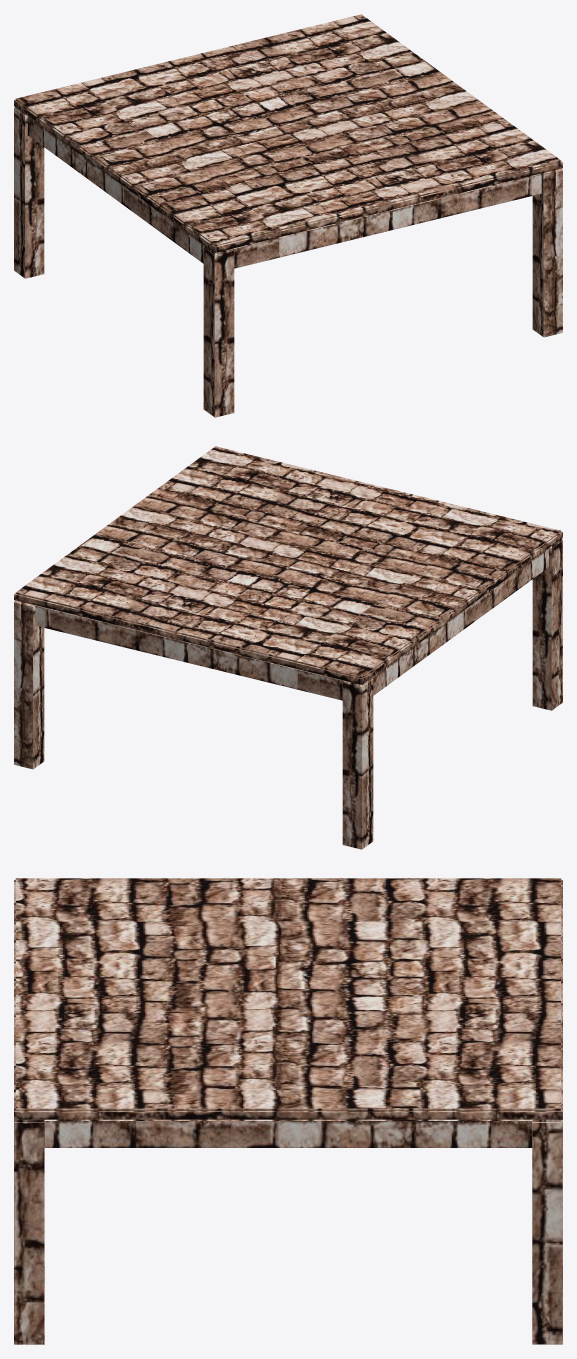
The model's file is table.obj.
3 renders of one model, top to bottom at view 1: azimuth 30°, elevation 25°; view 2: azimuth 150°, elevation 25°; view 3: azimuth 270°, elevation 25°, orthographic. The views are drawn at different scales.
Visible parts, largest first — view 1: Merged_Meshes; view 2: Merged_Meshes; view 3: Merged_Meshes.
Boxes of the visible parts, bbox=[...] form: Merged_Meshes: bbox=[14, 14, 562, 417]; Merged_Meshes: bbox=[14, 446, 562, 849]; Merged_Meshes: bbox=[14, 878, 562, 1344].
Size of the model in its own units: 1.4 by 0.6624 by 1.4.
Materials: 1 (1 with a texture image).
